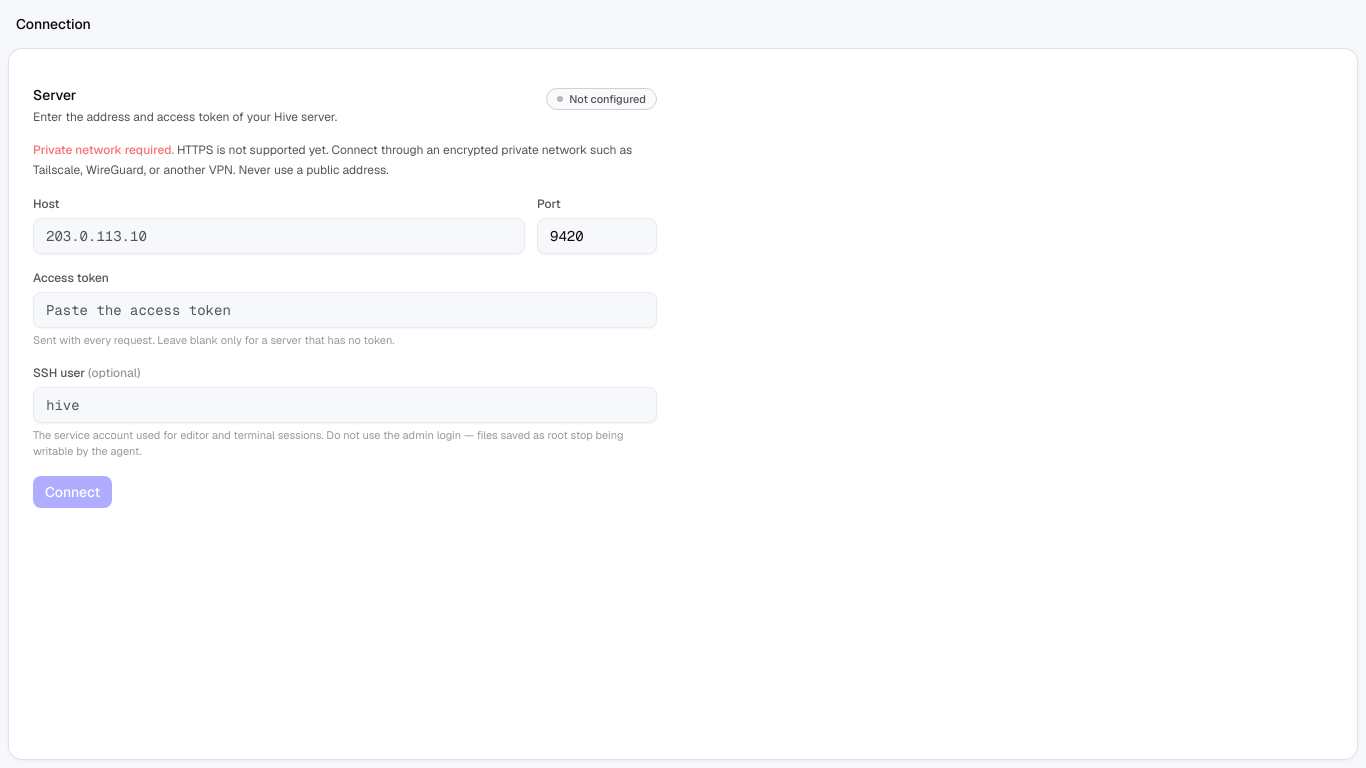
ConnectionSettings › reports an unreachable server and stores nothing
Type "100.64.0.10" into the field with placeholder "203.0.113.10" at (279,236), box [33,218,525,254]
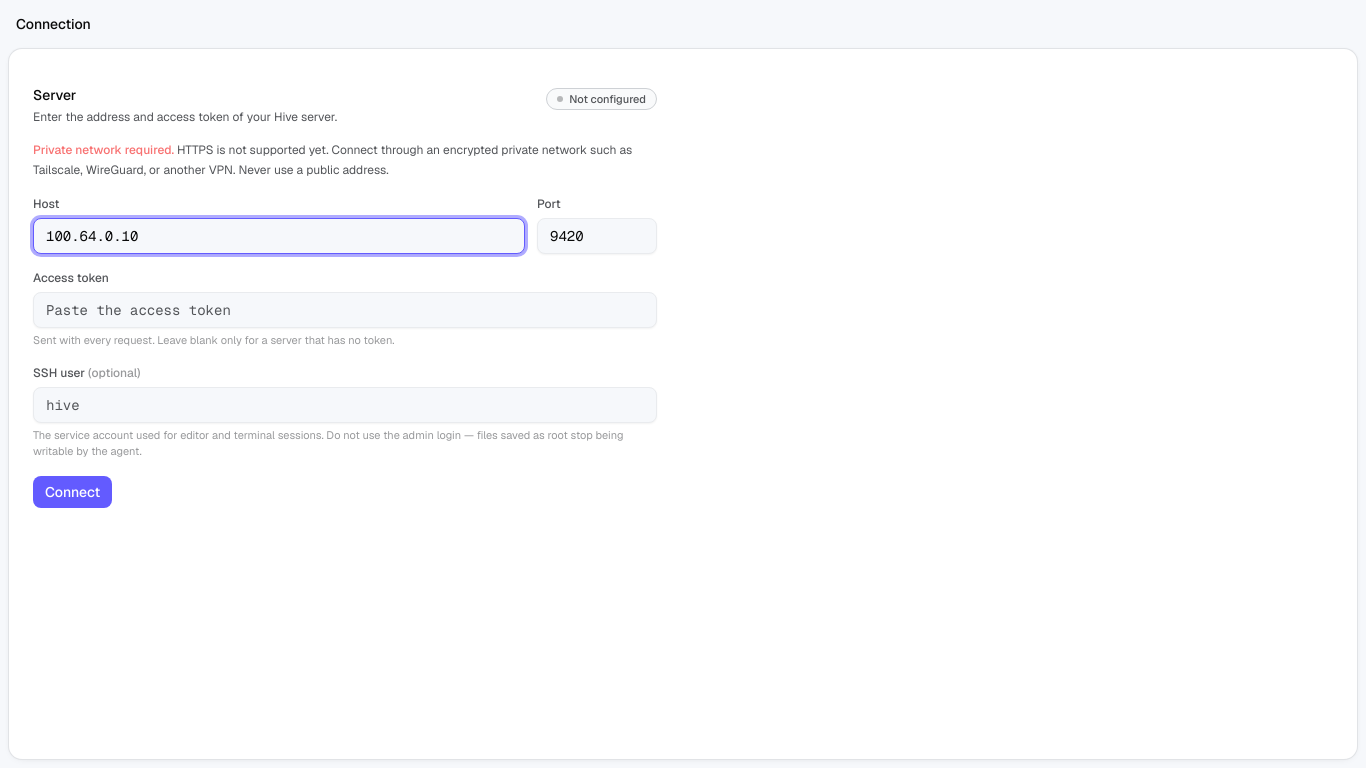
Click the button "Connect" at (73,492), box [33,476,112,508]
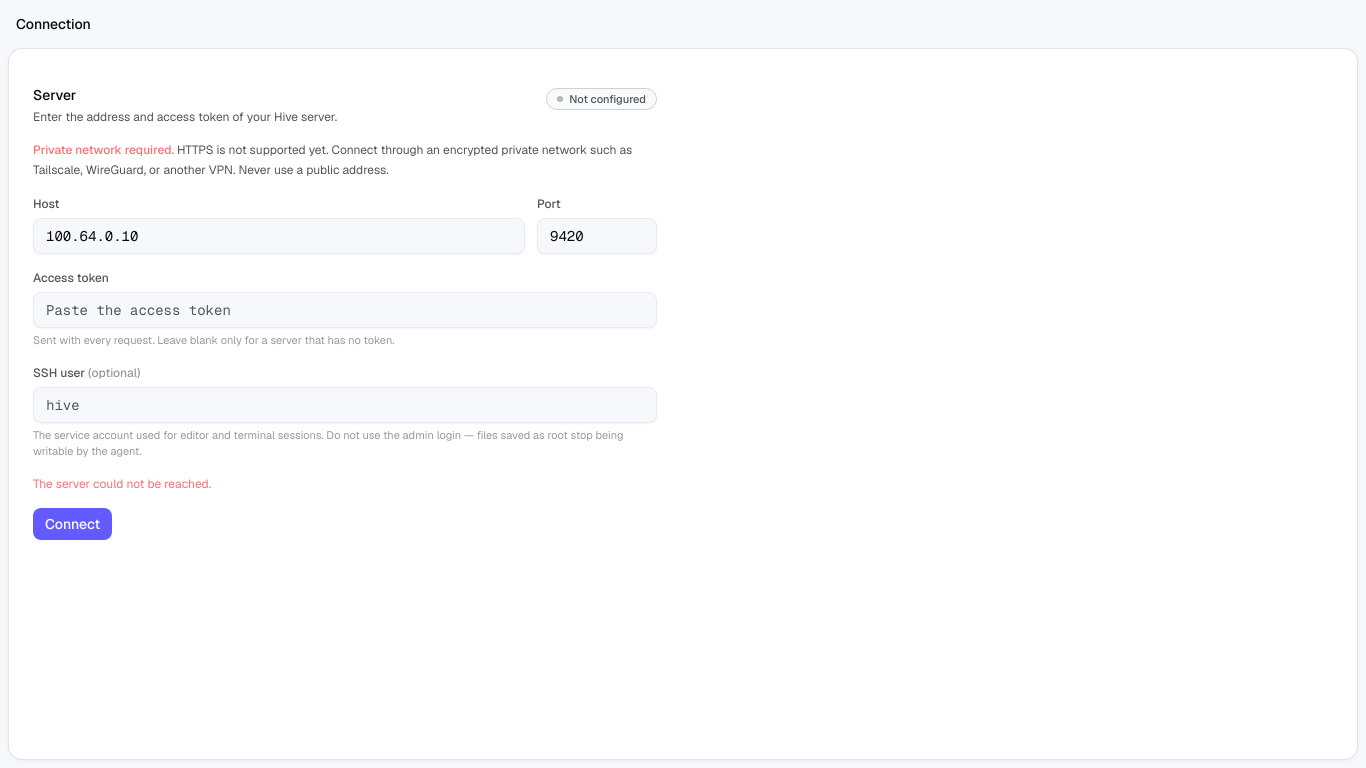
Expected: the text "The server could not be reached." is shown, [33,476,211,492]
